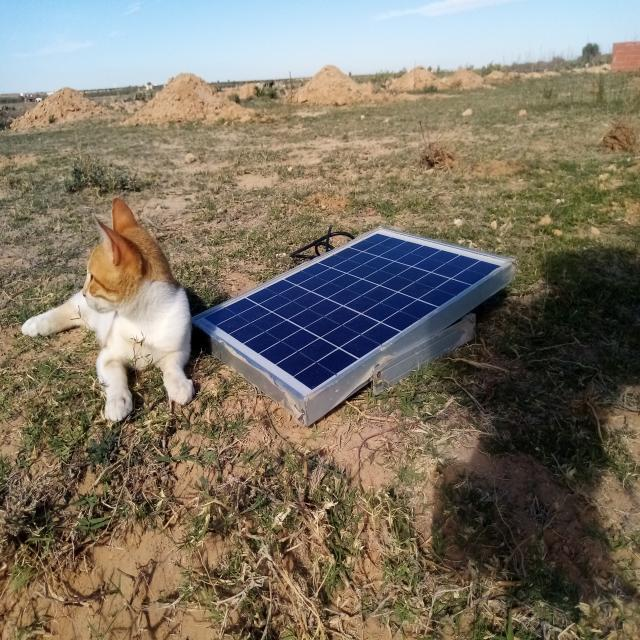no faulty: (193, 227, 514, 401)
